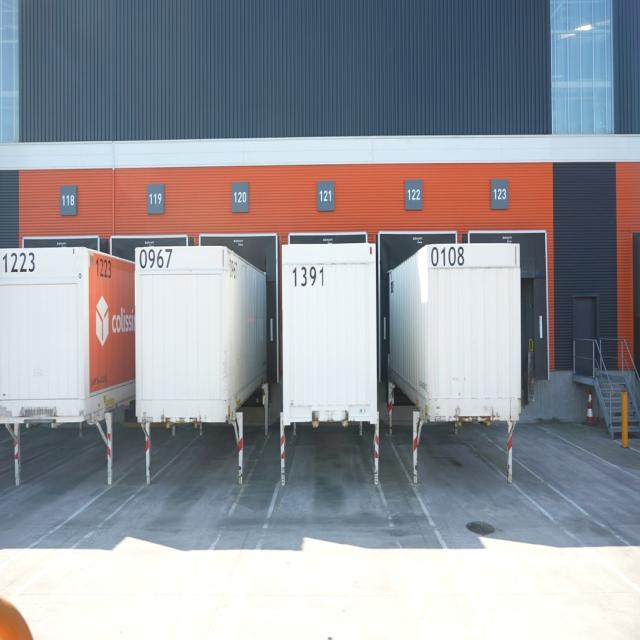Code: (291, 260, 327, 295), (429, 240, 465, 273), (136, 245, 176, 272), (2, 248, 36, 273), (92, 254, 114, 281)
